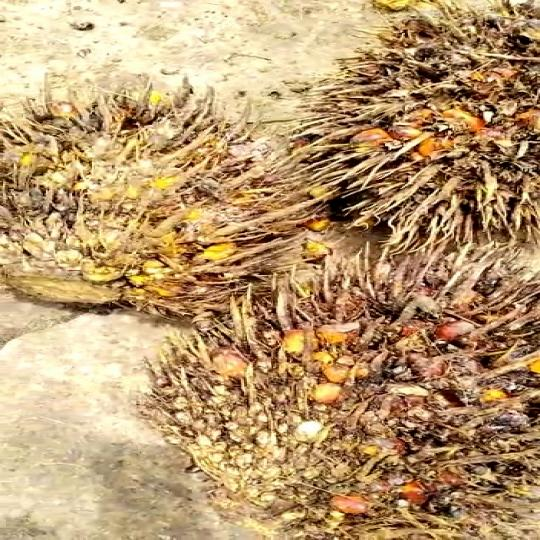terlalu masak: (0, 74, 334, 322), (287, 17, 540, 249)
